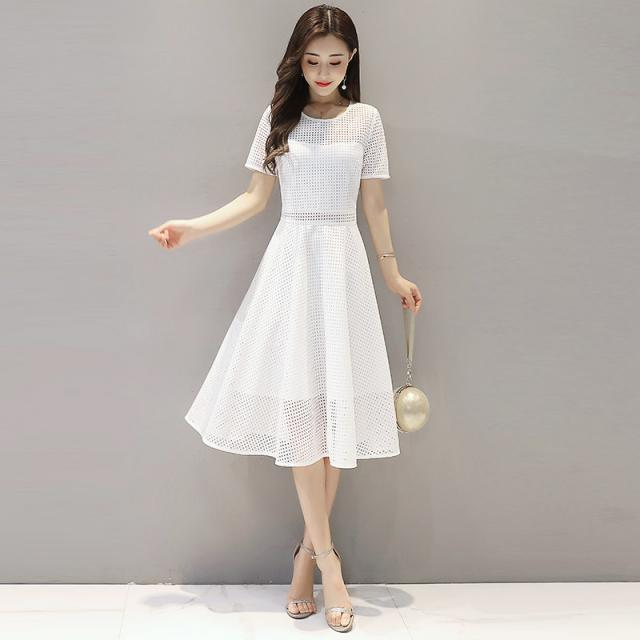clothes: (182, 96, 404, 461)
